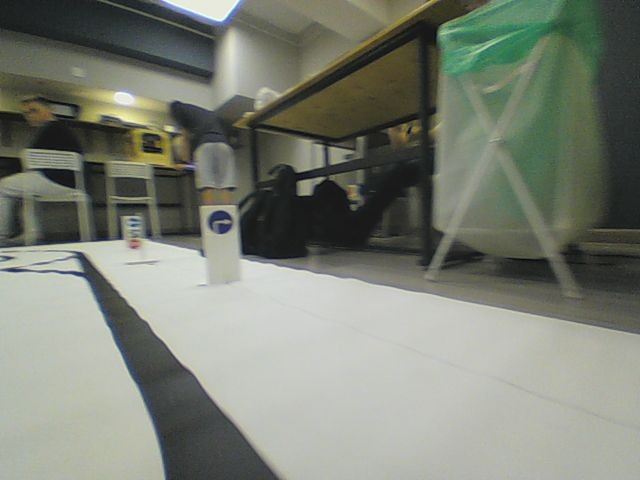Right: (206, 209, 234, 235)
